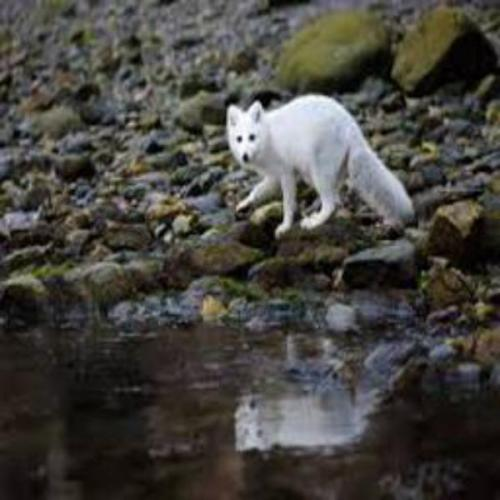arctic_fox-endangered: (224, 94, 412, 236)
